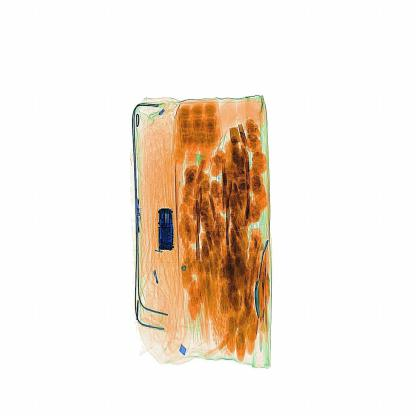scissors: (149, 194, 191, 256)
